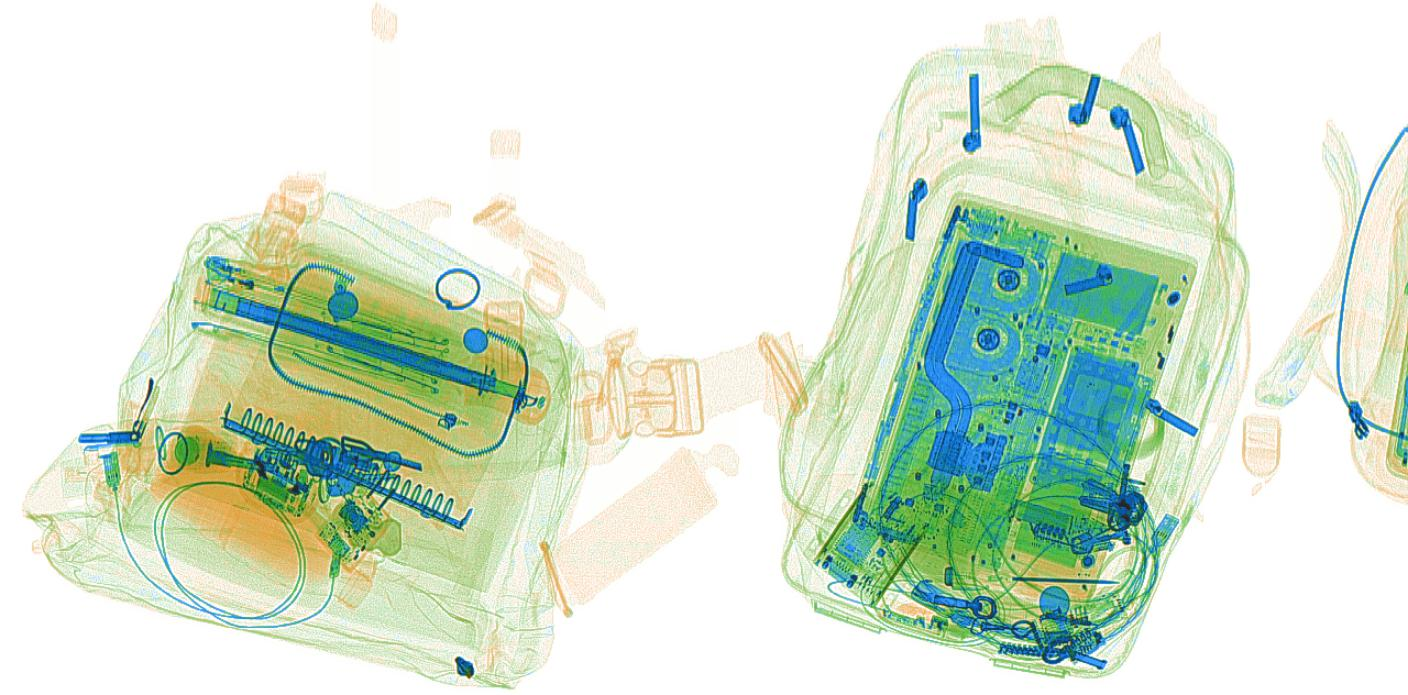battery: (1010, 497, 1075, 535)
lighter: (202, 255, 322, 301)
